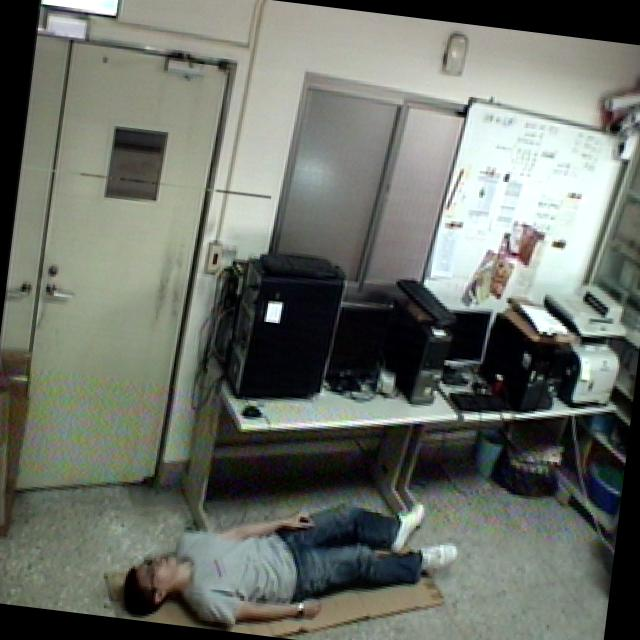lie: (101, 459, 468, 640)
